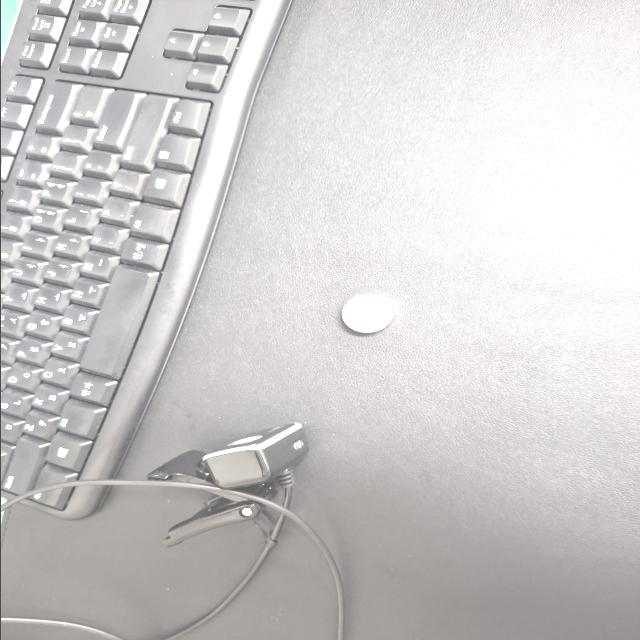COIN: (196, 256, 246, 294)
